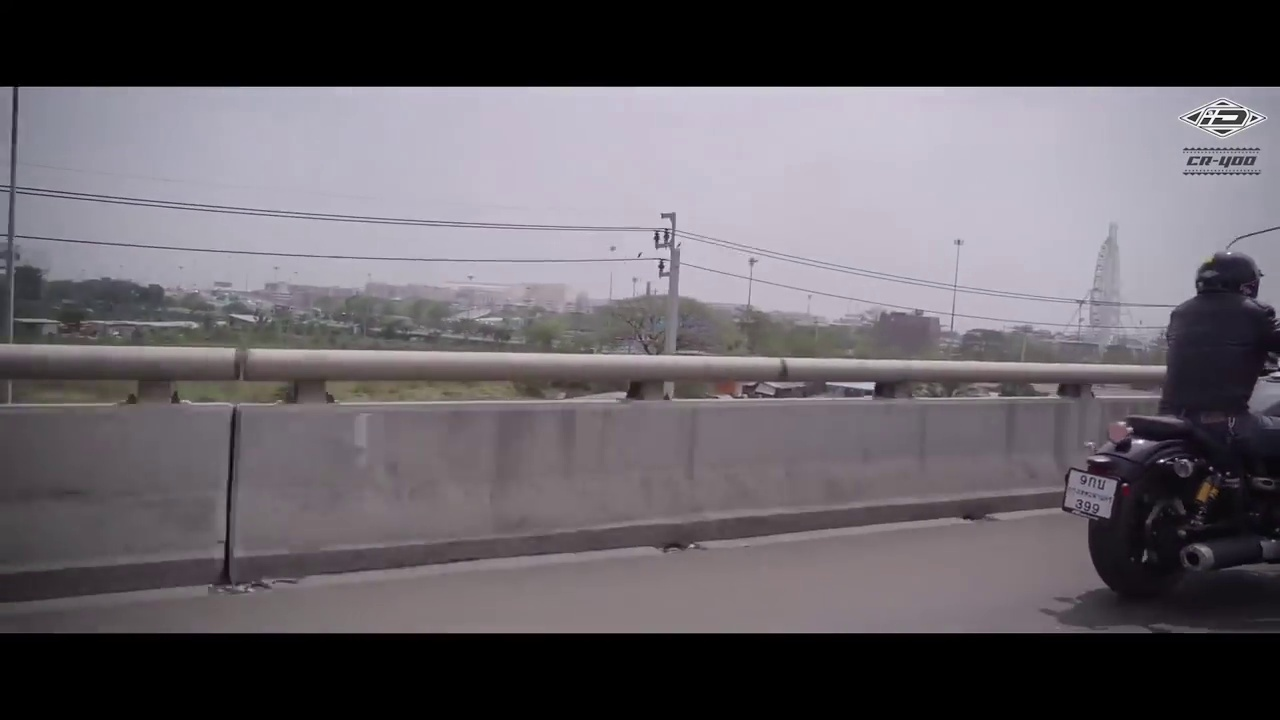helmet: (1188, 242, 1265, 289)
